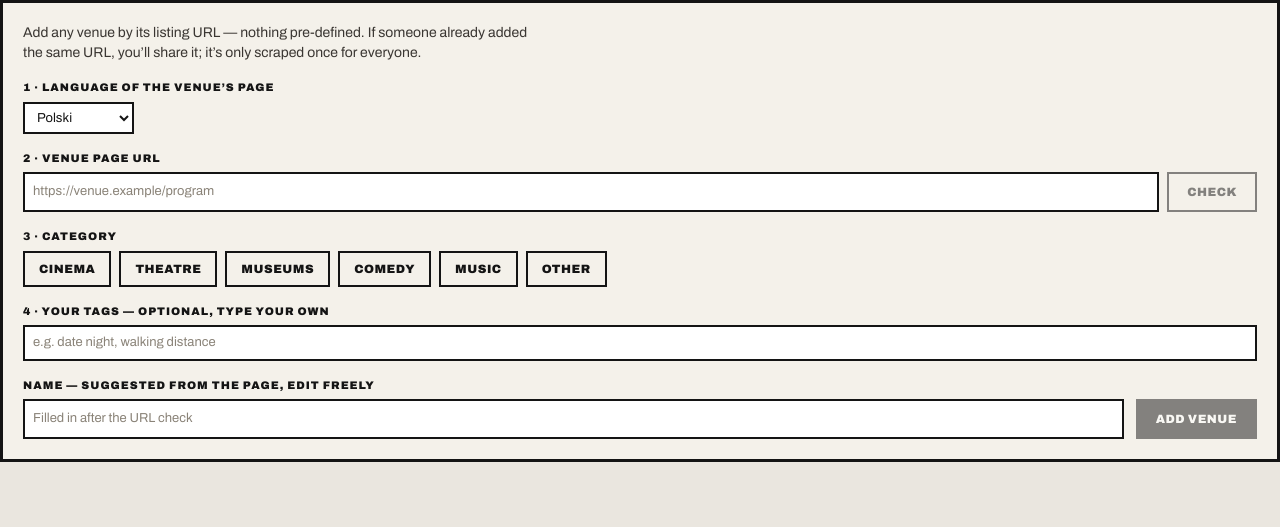
Test: AddVenueForm — probe result (GOI-72 §5, §8) › says a shared venue is already tracked instead of re-confirming it
The image size is (1280, 527).
Type "https://palacowe.example/repertuar" into the field labelled "2 · Venue page URL".
click(591, 192); type("https://palacowe.example/repertuar")  # box [23, 172, 1159, 212]
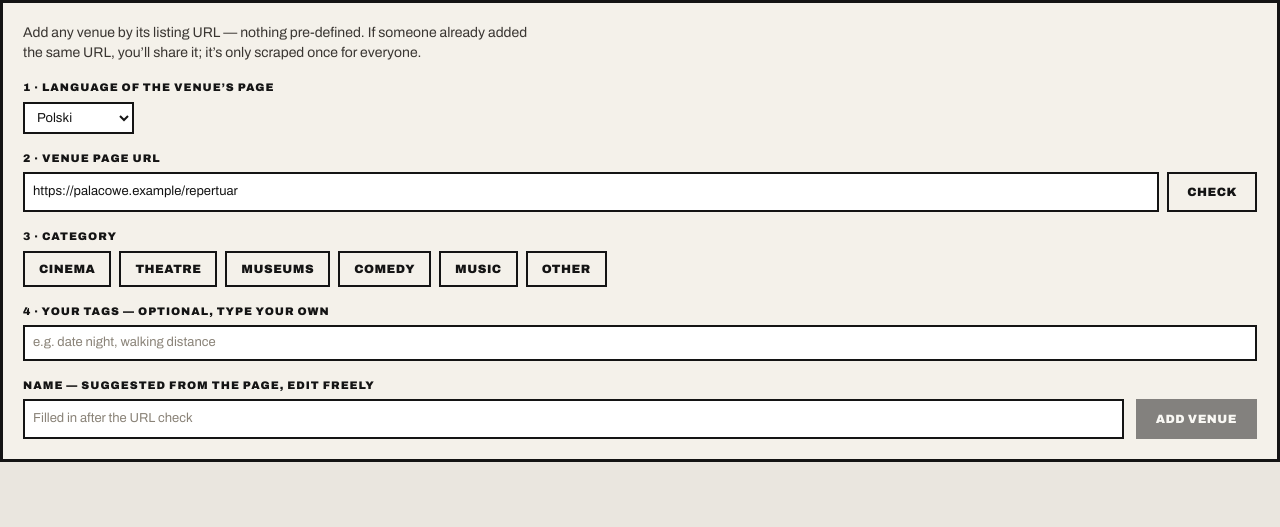
Click the button "Check".
click(1212, 192)  # box [1167, 172, 1257, 212]
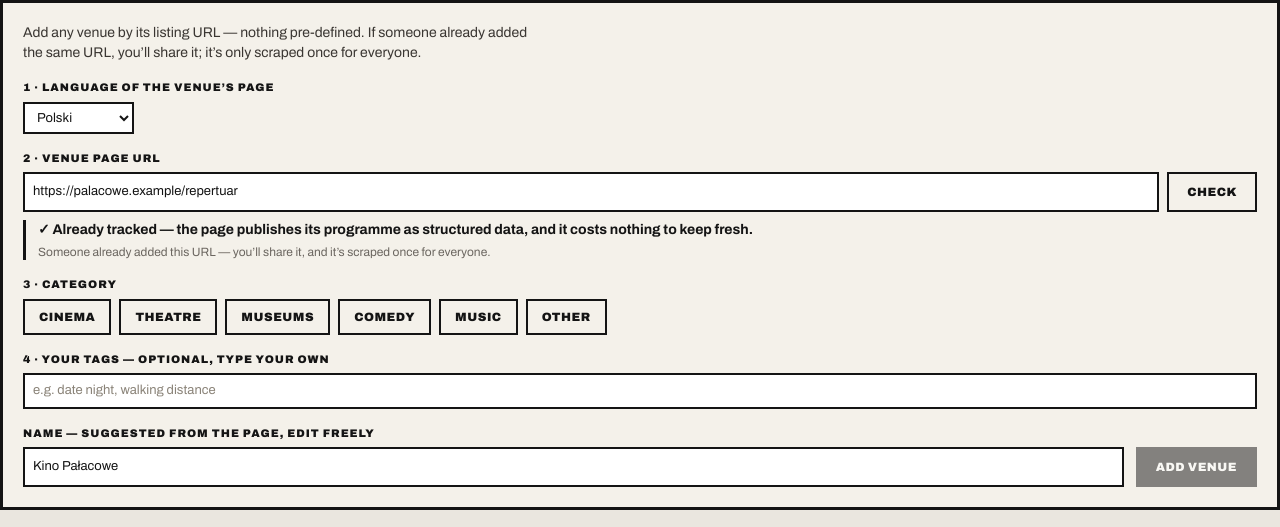
Check: the message shows "Already tracked", box [52, 222, 157, 237]
Check: the message shows "scraped once for everyone", box [38, 245, 490, 259]
